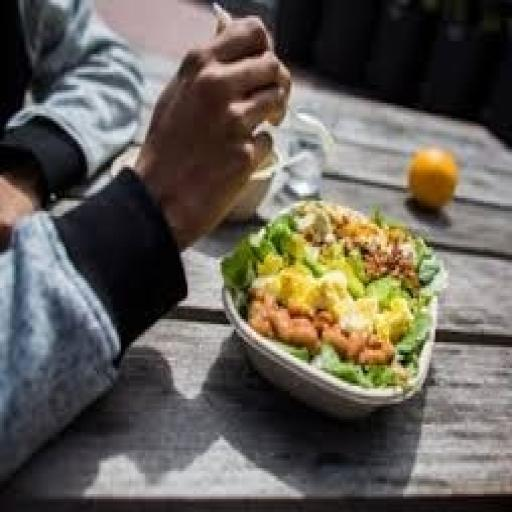eating: (0, 0, 292, 509)
